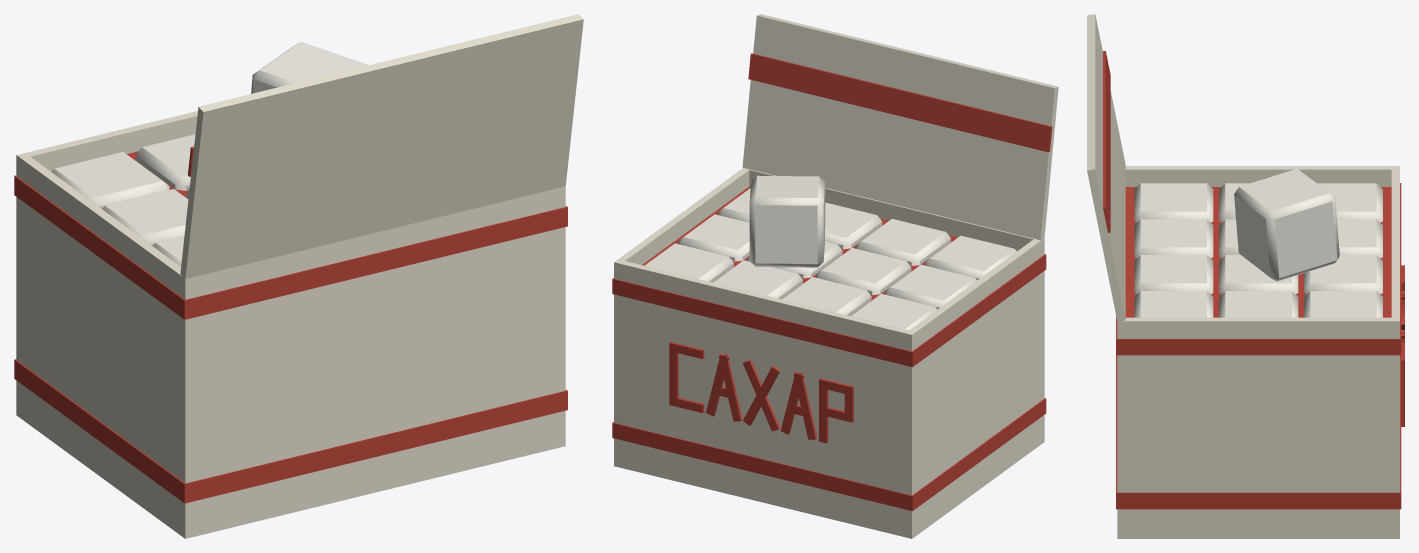
The model's file is sugar_cubes.glb.
3 views of the same model, side by side, from view 1: azimuth 30°, elevation 25°; view 2: azimuth 150°, elevation 25°; view 3: azimuth 270°, elevation 25° (orthographic). The views are drawn at different scales.
Parts seen in each view (by area): view 1: body; view 2: body; view 3: body.
Part boxes in pixels (left/top/right/bottom): body: left=14, top=14, right=583, bottom=538; body: left=612, top=14, right=1058, bottom=538; body: left=1087, top=14, right=1404, bottom=538.
Bounding box in the file's own units: 0.0524 × 0.0577 × 0.045.
